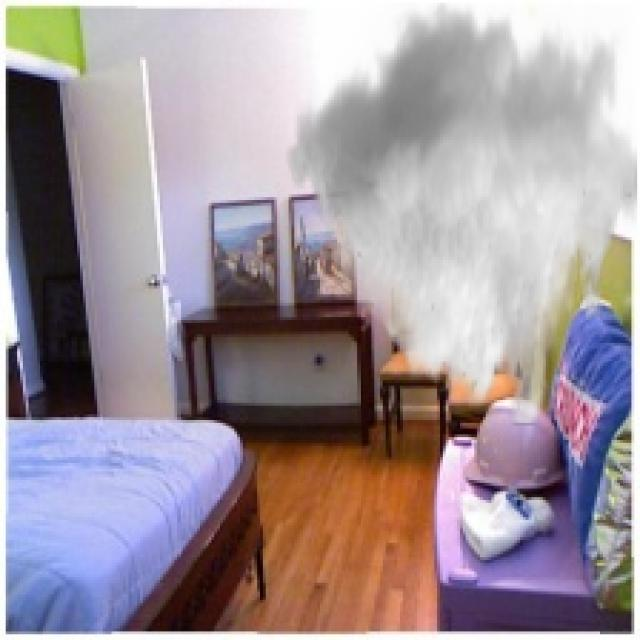smoke: (280, 3, 637, 426)
